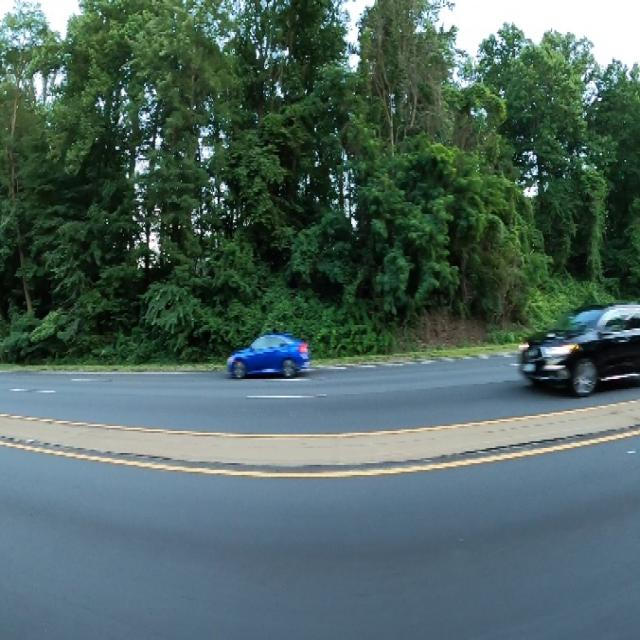cars: (517, 304, 640, 396), (227, 328, 310, 383)
